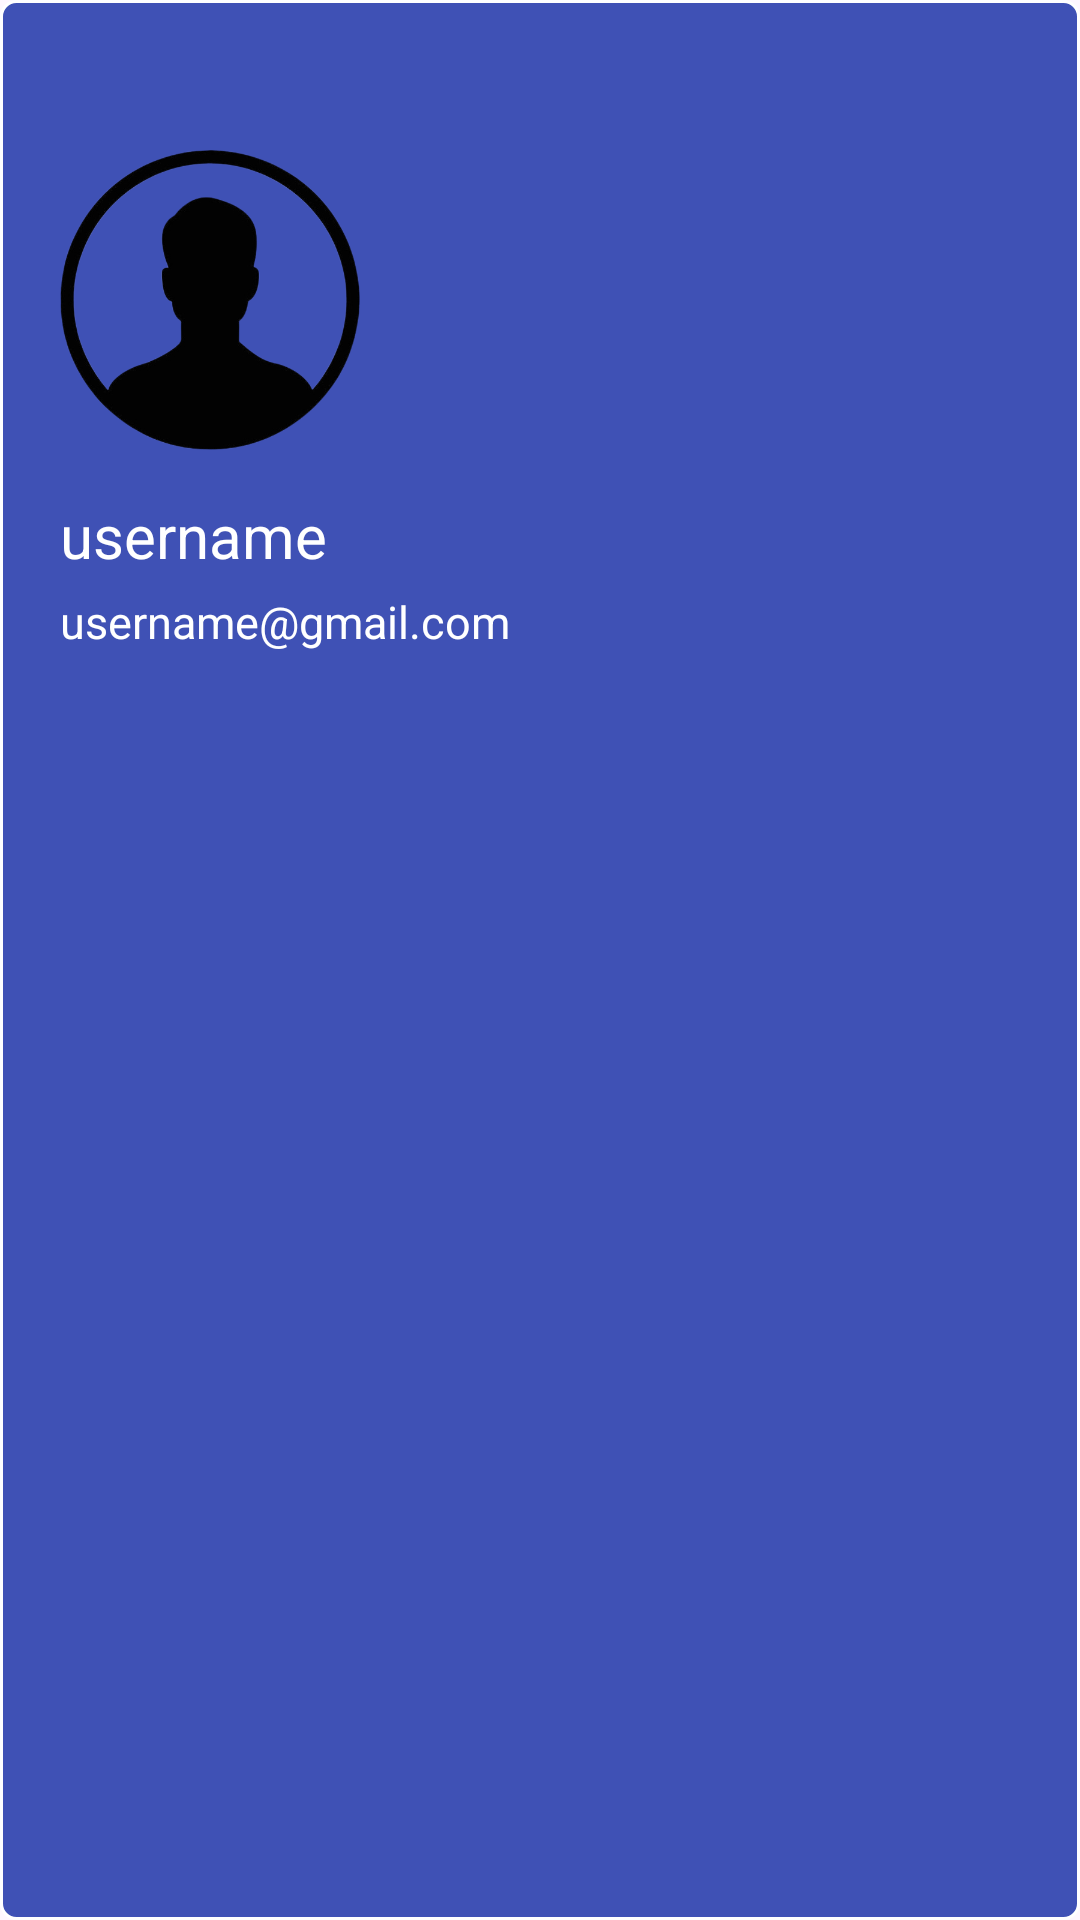

Icon bounding boxes for this 1080 × 1920 phone screenshot, format [x1, y1, x2, y2]:
profile: [60, 150, 360, 450]
